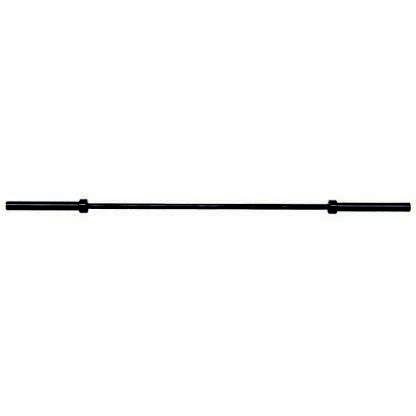Barbell: (392, 193, 413, 223)
